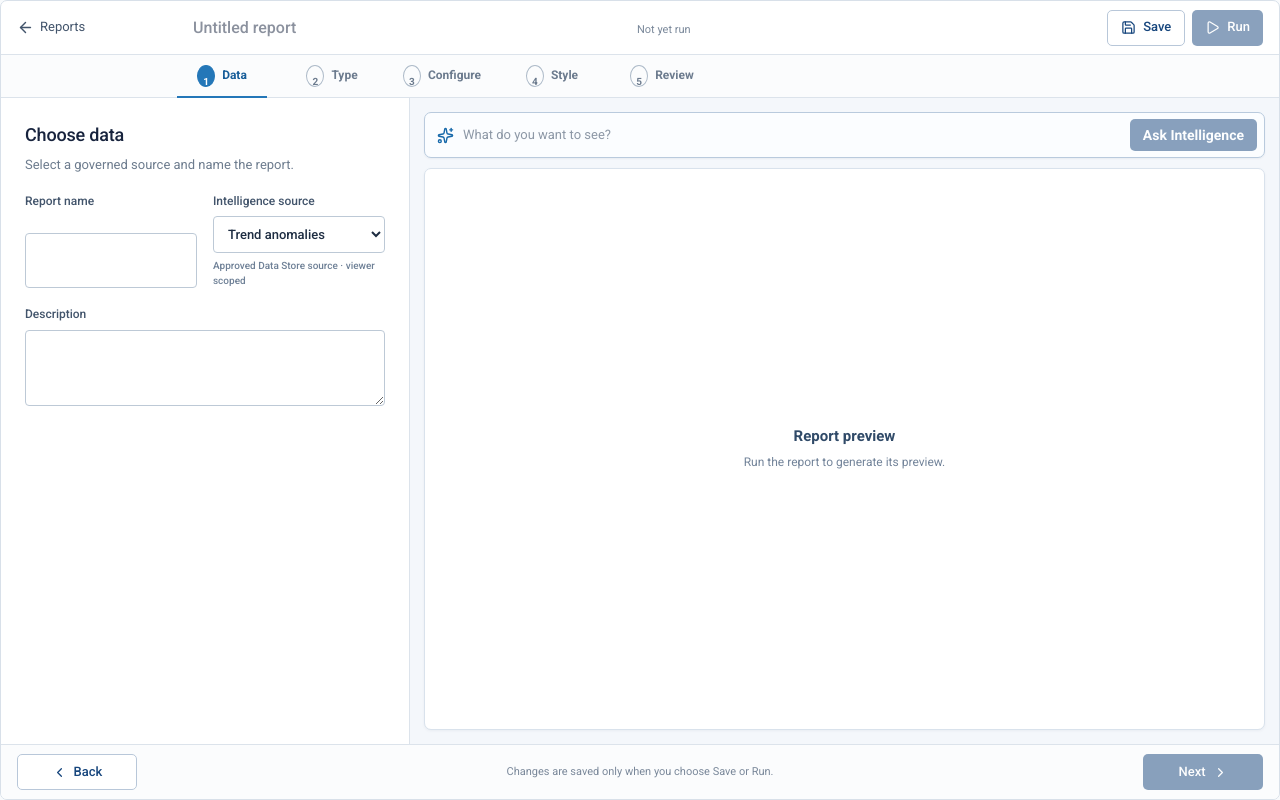
does not save a chart rejected by the governed source contract
Type "Unsafe pie" into the field labelled "Report name" at (111, 261), box 25,233 -> 197,288
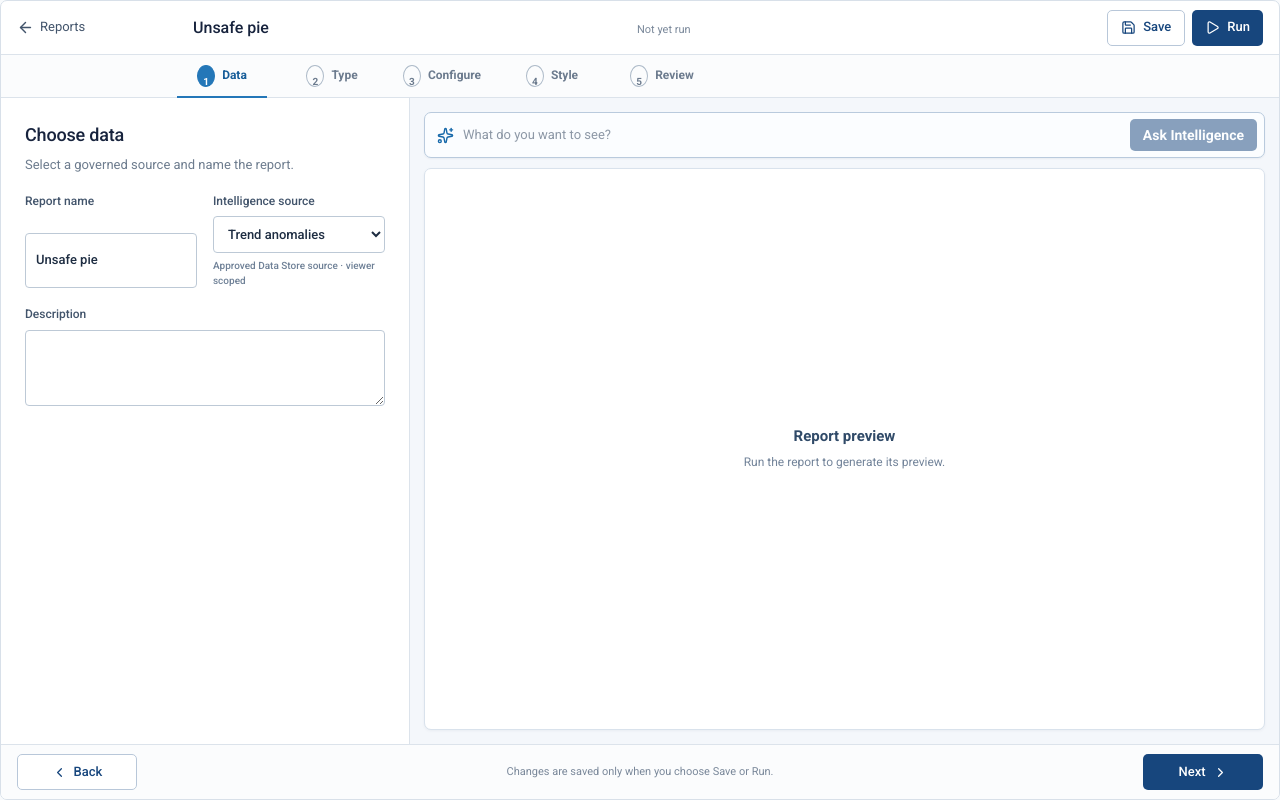
Click the button "Next" at (1203, 772), box 1143,754 -> 1263,790
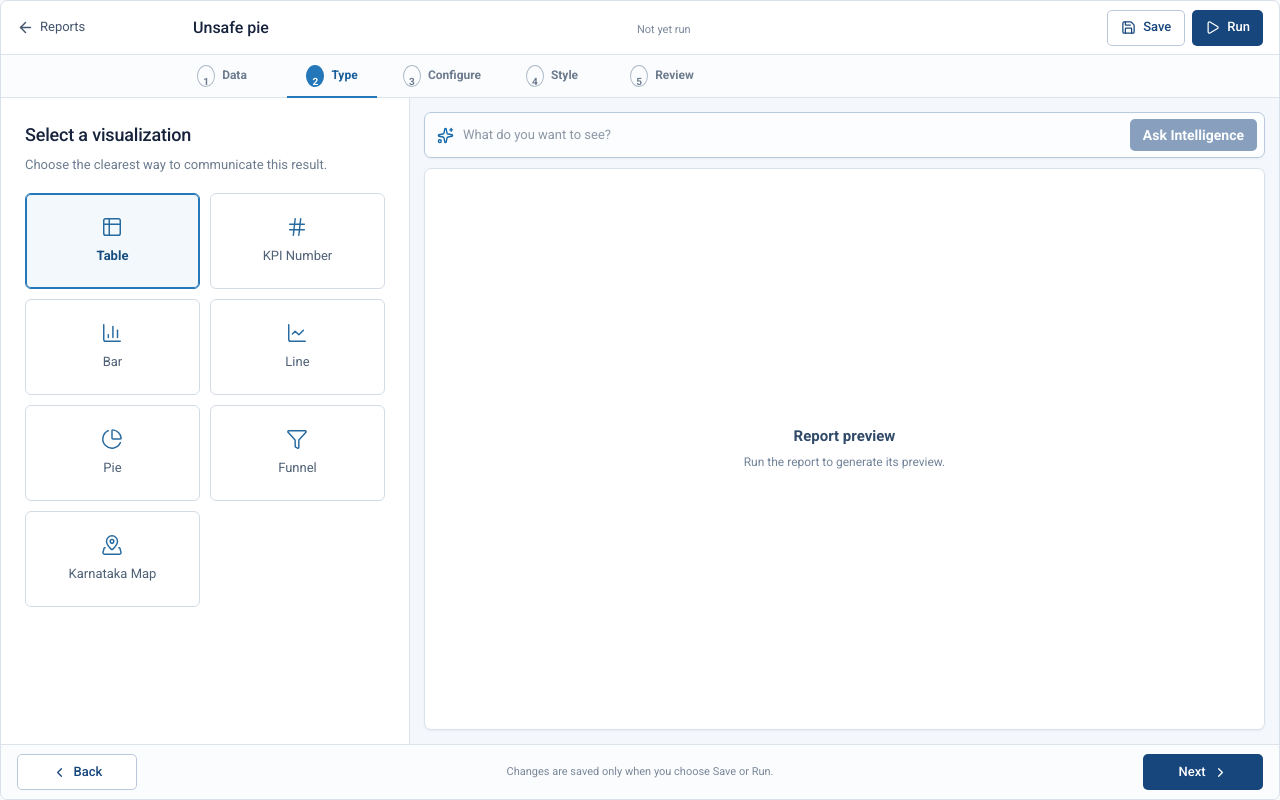
Click the radio button labelled "Pie" at (112, 453), box 25,405 -> 200,501
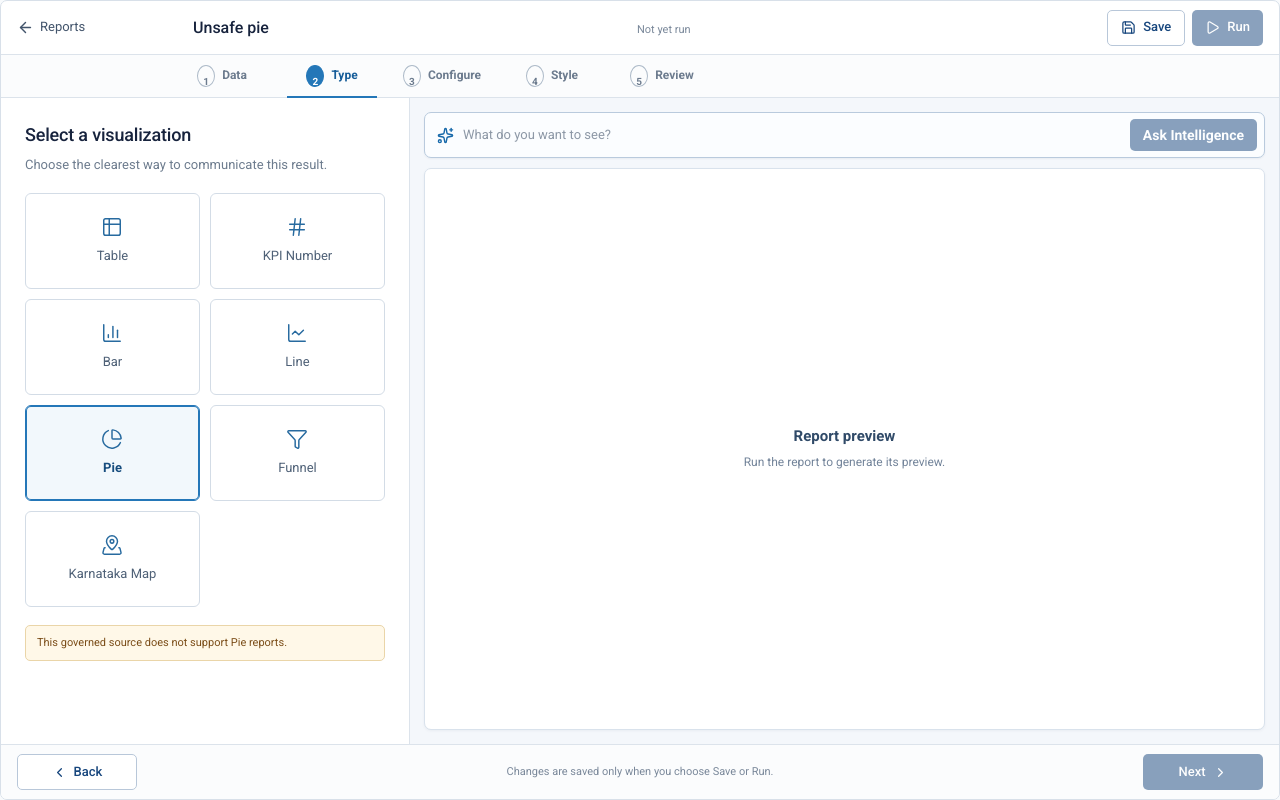
Check: the text "This governed source does not support Pie reports." is shown, box 25,625 -> 385,661
Check: the button "Run" is disabled, box 1192,10 -> 1263,46
Check: the button "Next" is disabled, box 1143,754 -> 1263,790
